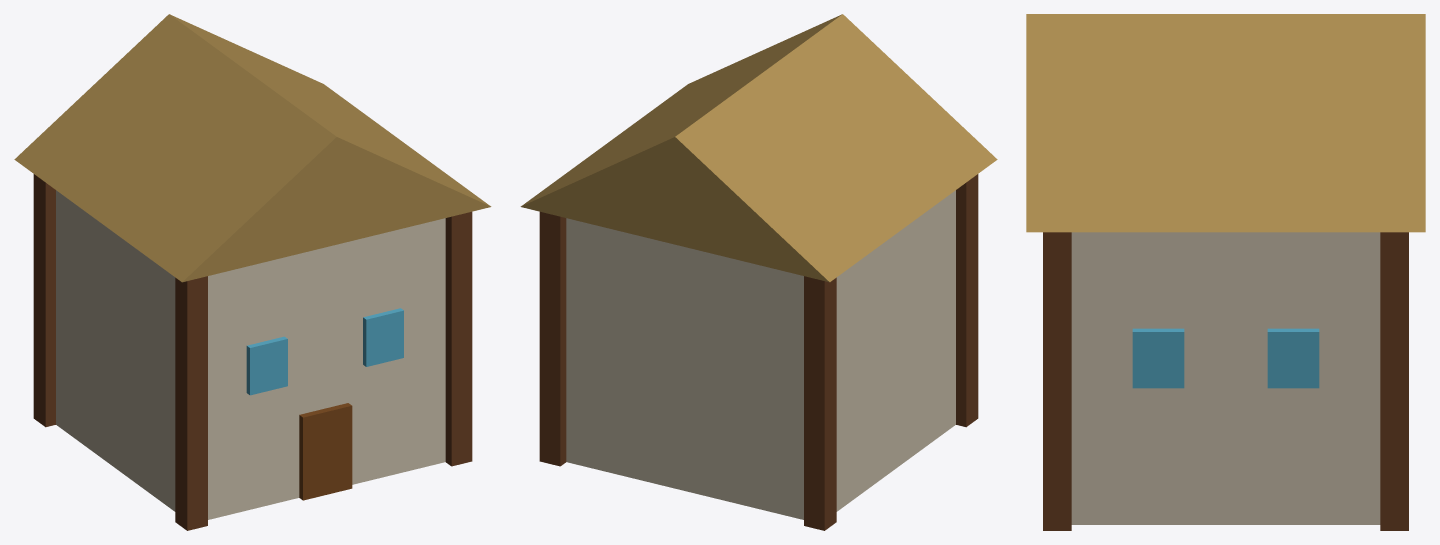
File: house_straw.glb
The picture shows the model from 3 angles, left to right: view 1: azimuth 30°, elevation 25°; view 2: azimuth 150°, elevation 25°; view 3: azimuth 270°, elevation 25°; orthographic projection. The views are drawn at different scales.
Parts seen in each view (by area): view 1: beams; view 2: beams; view 3: beams.
Boxes of the visible parts, left/top/right/bottom form: beams: left=14, top=14, right=491, bottom=530; beams: left=520, top=14, right=997, bottom=530; beams: left=1026, top=14, right=1425, bottom=530.
Size of the model in its own units: 1.64 by 1.85 by 1.54.
